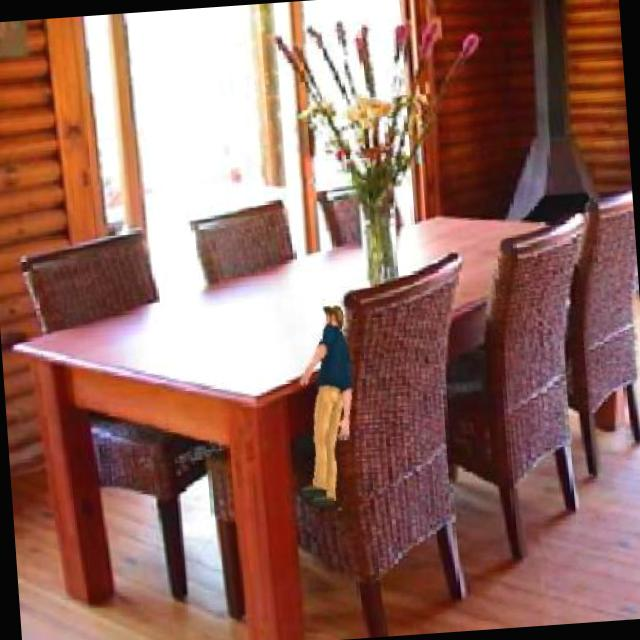Person: (283, 300, 364, 514)
